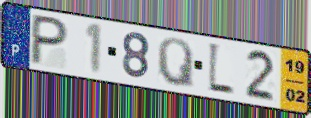1: (83, 21, 104, 76)
2: (244, 48, 278, 105)
8: (121, 30, 151, 80)
L: (207, 40, 237, 99)
P: (27, 12, 71, 67)
Q: (155, 36, 196, 91)
